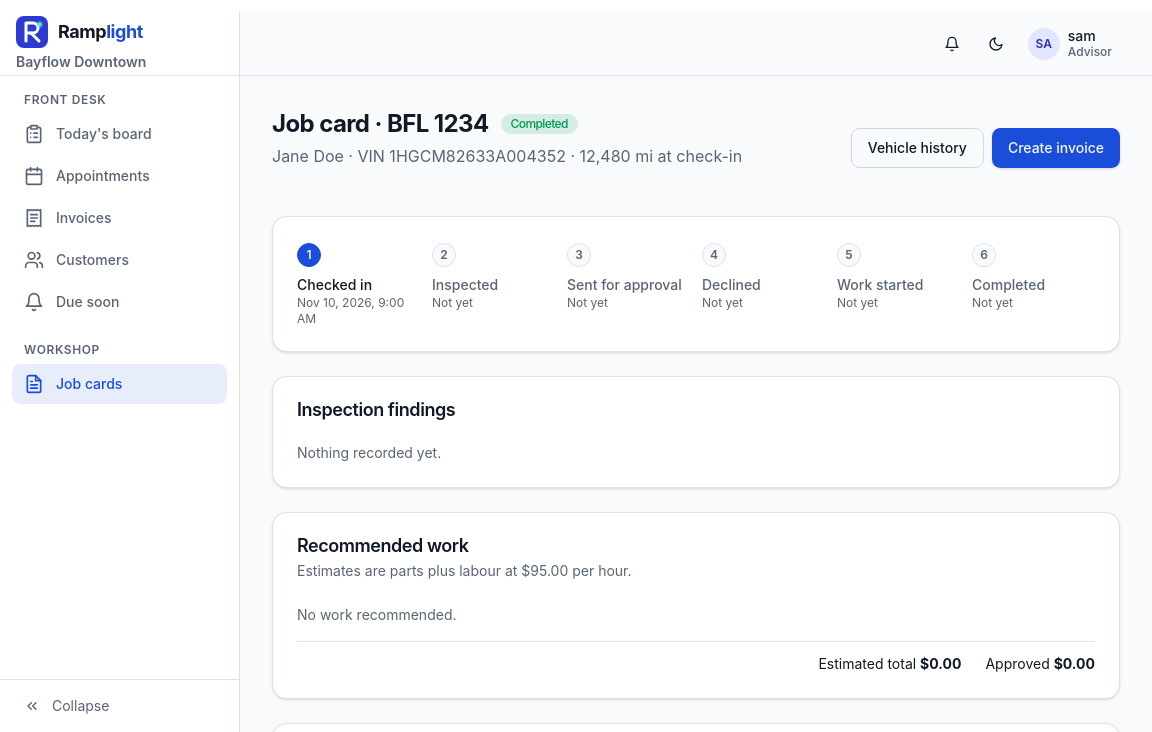
Test: invoices (R2a) › lets an advisor create the invoice of a completed job
Click the button "Create invoice" at (1056,148), box left=992, top=128, right=1120, bottom=168
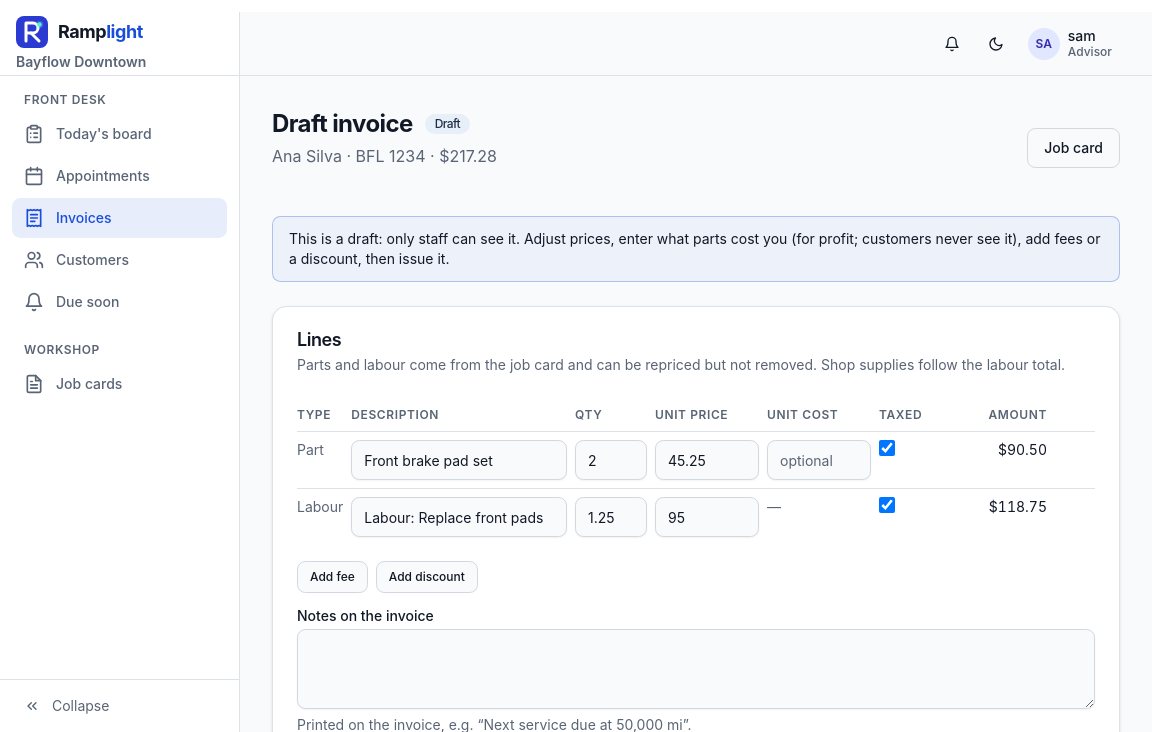
Check: the heading "Draft invoice Draft" is shown, box left=272, top=108, right=497, bottom=140
